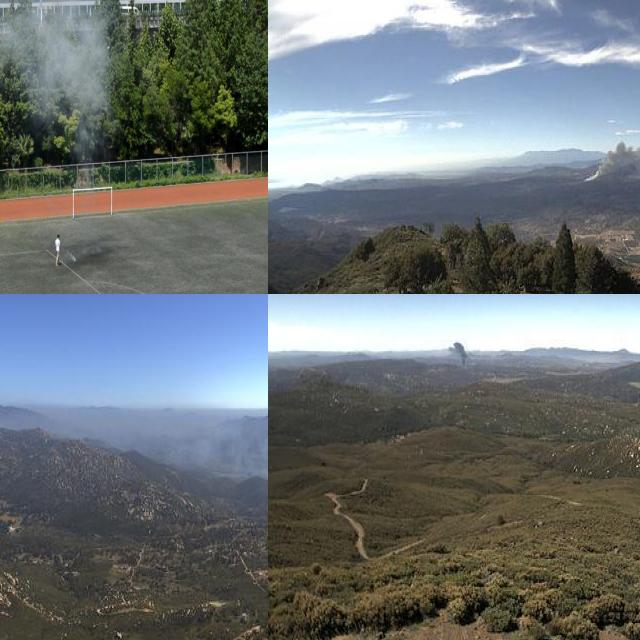smoke: (0, 1, 110, 142), (183, 423, 268, 489), (581, 129, 640, 184), (445, 335, 471, 372)
